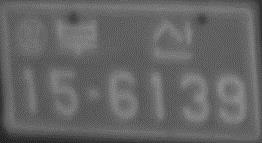-: (84, 84, 102, 105)
1: (146, 69, 170, 122), (20, 63, 42, 117)
3: (178, 72, 211, 125)
5: (46, 65, 79, 118)
6: (107, 69, 141, 118)
9: (215, 72, 249, 123)
부산_D: (54, 14, 197, 63)
영: (15, 16, 51, 58)
